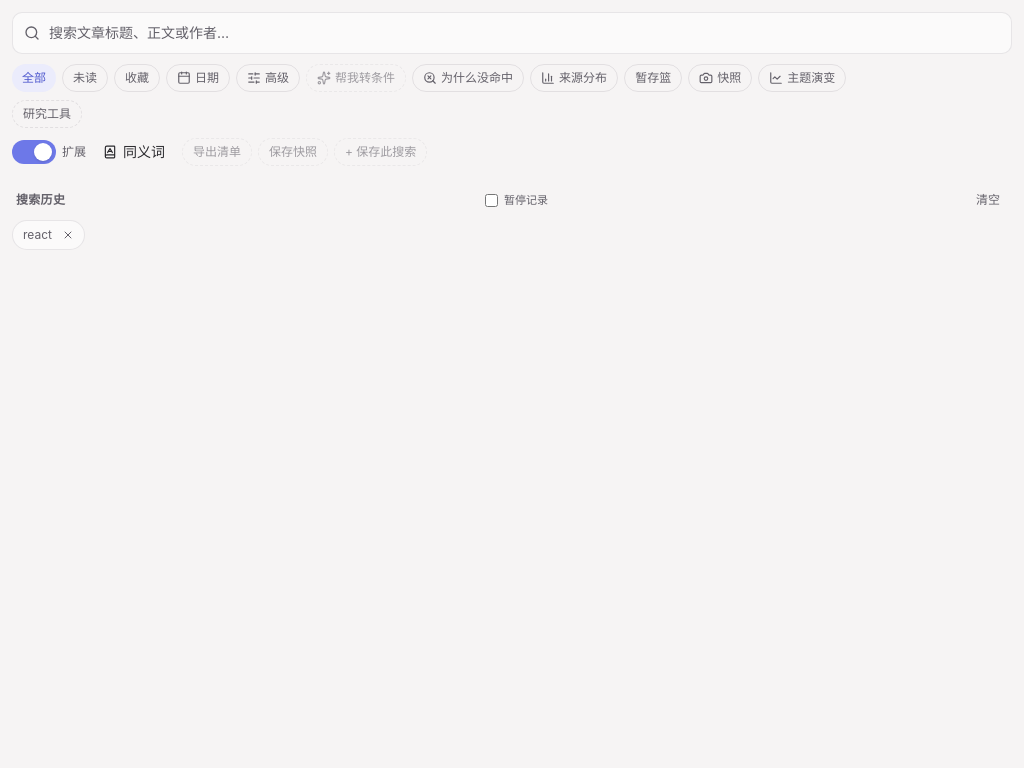
it: SearchPage — F27 日期筛选 › 清除日期后恢复全部结果（基础查询接手）
Type "react" into the search field labelled "搜索" at x=512, y=33, box x1=12 y1=12 x2=1012 y2=54
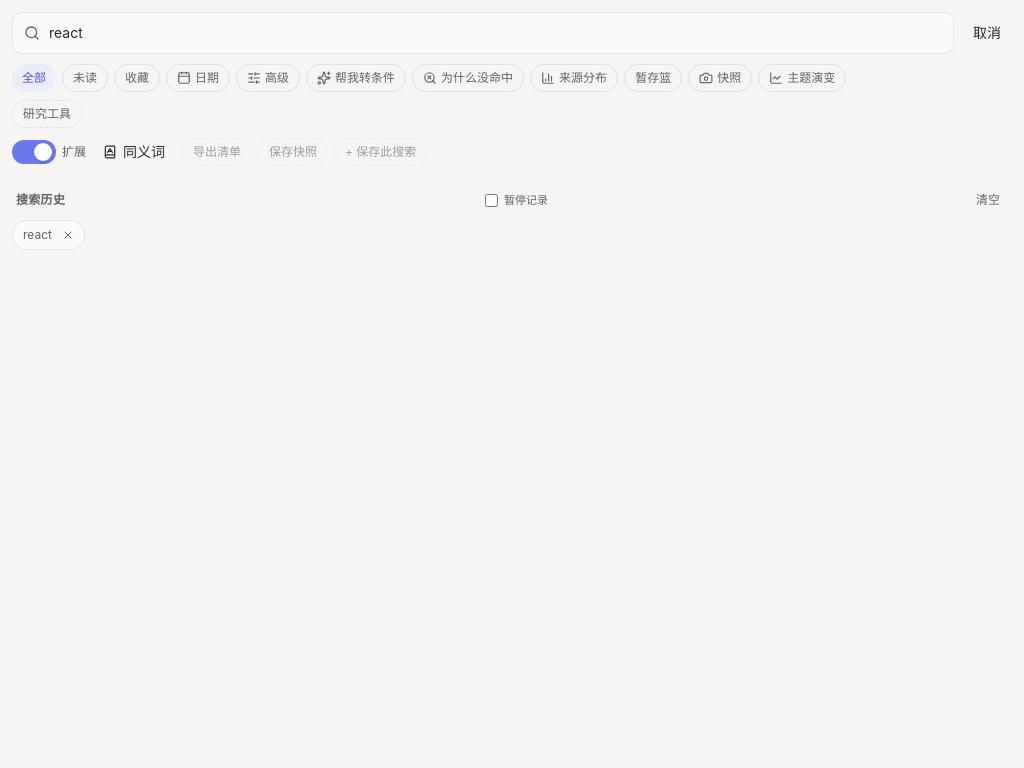
Press Enter in the search field named "搜索", box x1=12 y1=12 x2=954 y2=54
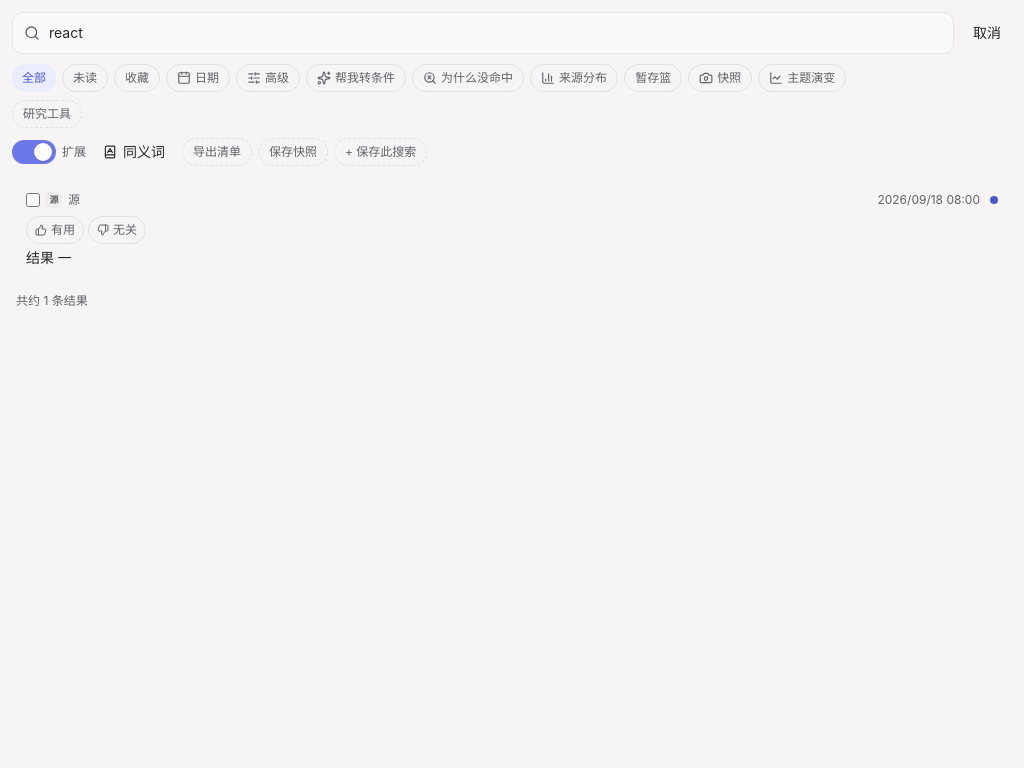
Now the text "共约 1 条结果" is shown, box x1=16 y1=293 x2=88 y2=308
Click the button with test id "date-panel-toggle" at x=198, y=78, box x1=166 y1=64 x2=230 y2=92
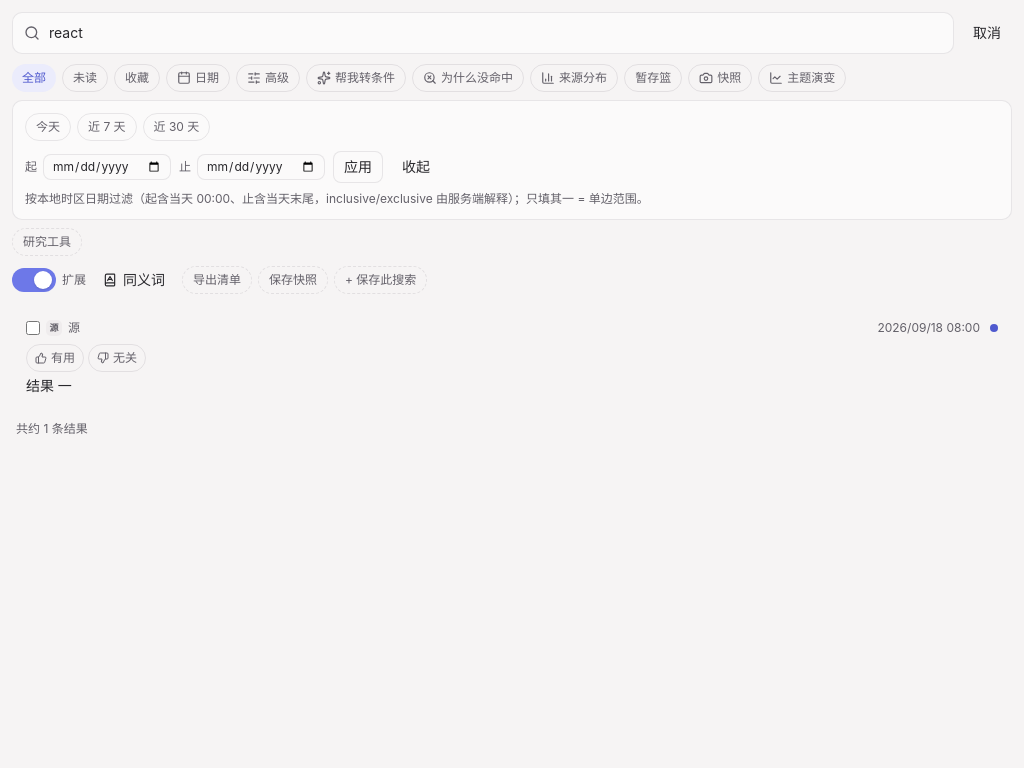
Click the button with test id "quick-range-today" at x=48, y=127, box x1=25 y1=113 x2=71 y2=141
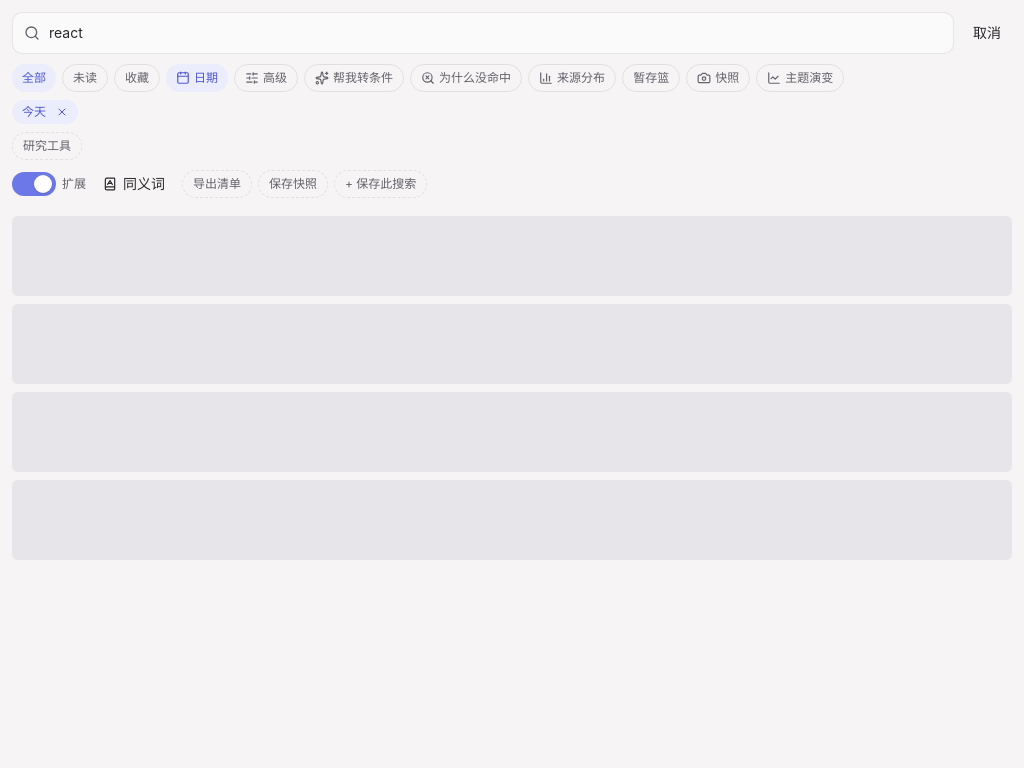
Click the button named "清除日期范围「今天」" at x=62, y=112, box x1=50 y1=100 x2=74 y2=124
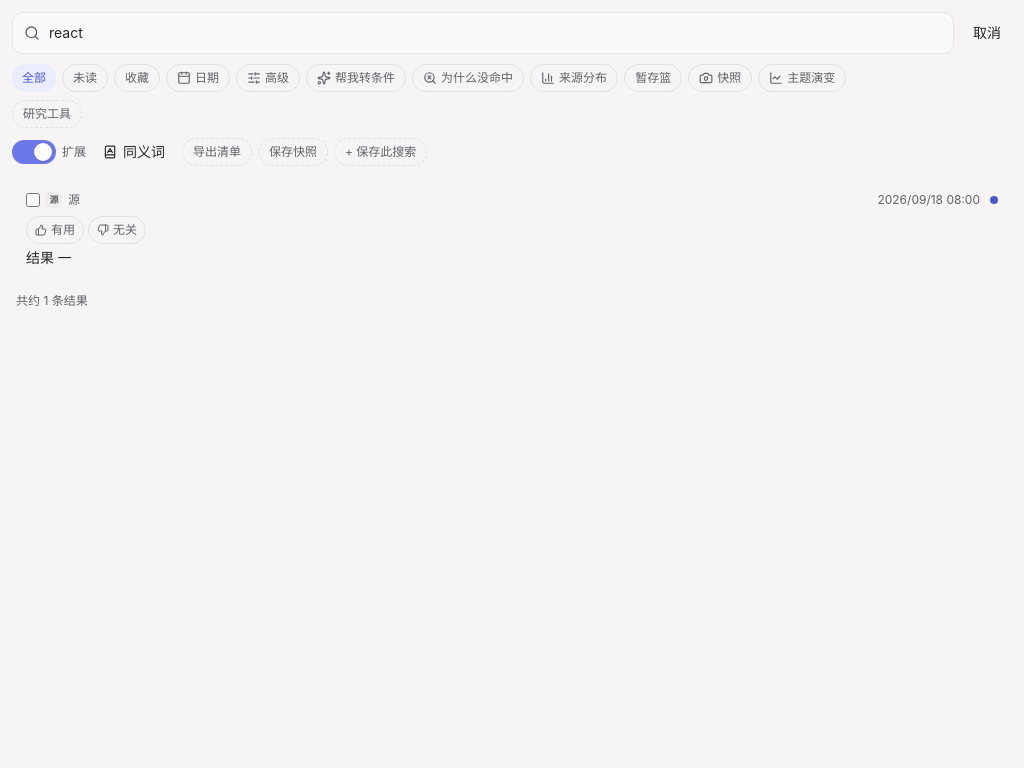
Now the text with test id "applied-date-label" is gone
Now the text "共约 1 条结果" is shown, box x1=16 y1=293 x2=88 y2=308
